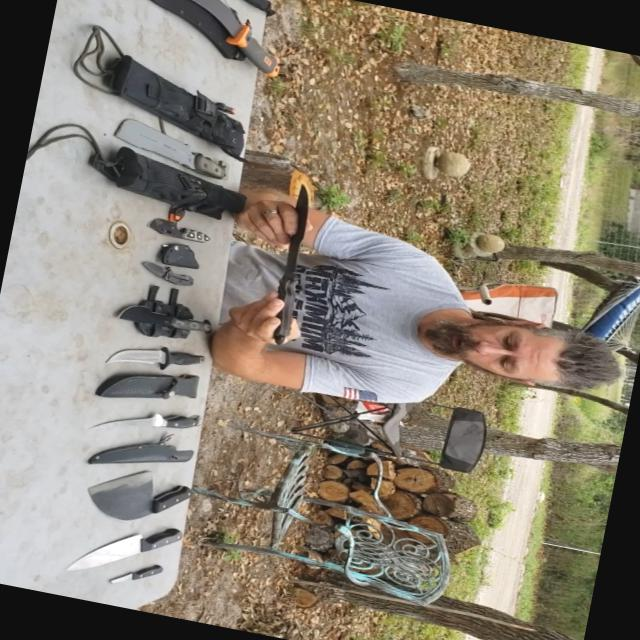knife: (72, 0, 306, 102), (76, 450, 212, 540), (252, 176, 322, 348), (58, 502, 194, 590), (96, 110, 240, 182), (83, 390, 215, 459), (91, 330, 228, 390), (111, 301, 223, 342), (142, 214, 232, 258), (100, 554, 170, 600), (136, 256, 212, 294), (201, 0, 287, 22)
